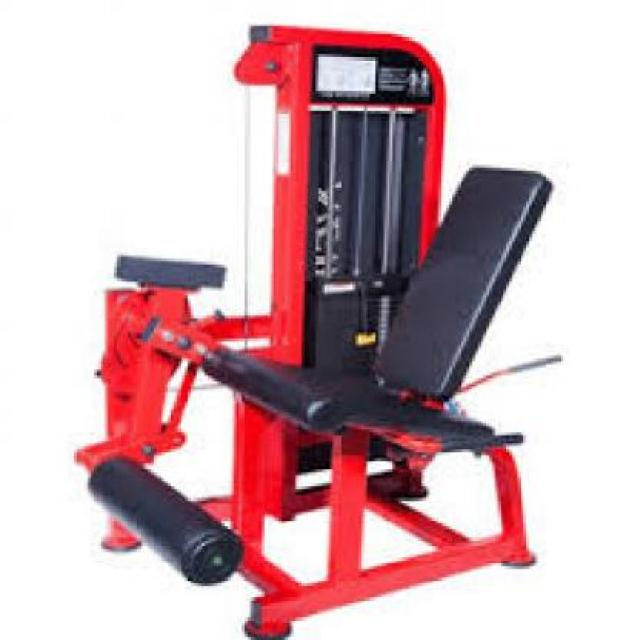leg extension: (65, 14, 572, 640)
